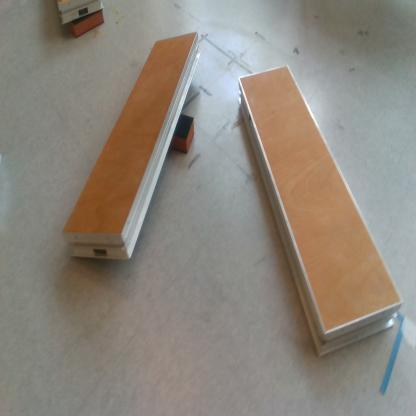Stairs: (240, 65, 404, 362), (61, 32, 202, 261), (57, 1, 105, 25)
